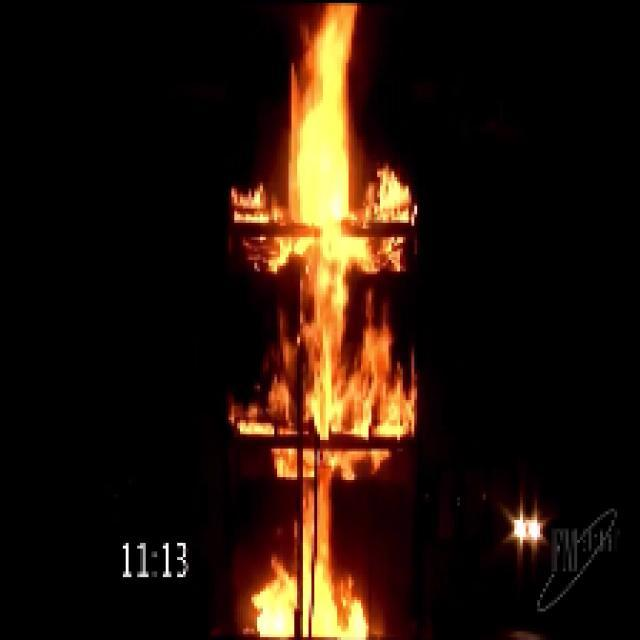Fire: (232, 3, 419, 640)
